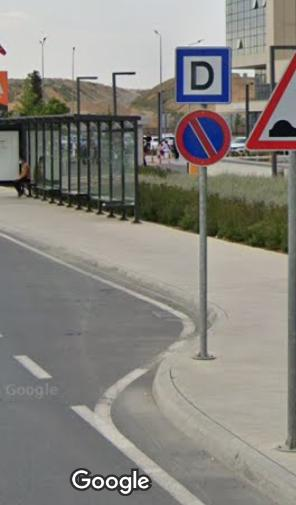nopark: (176, 113, 229, 164)
station: (184, 55, 222, 97)
